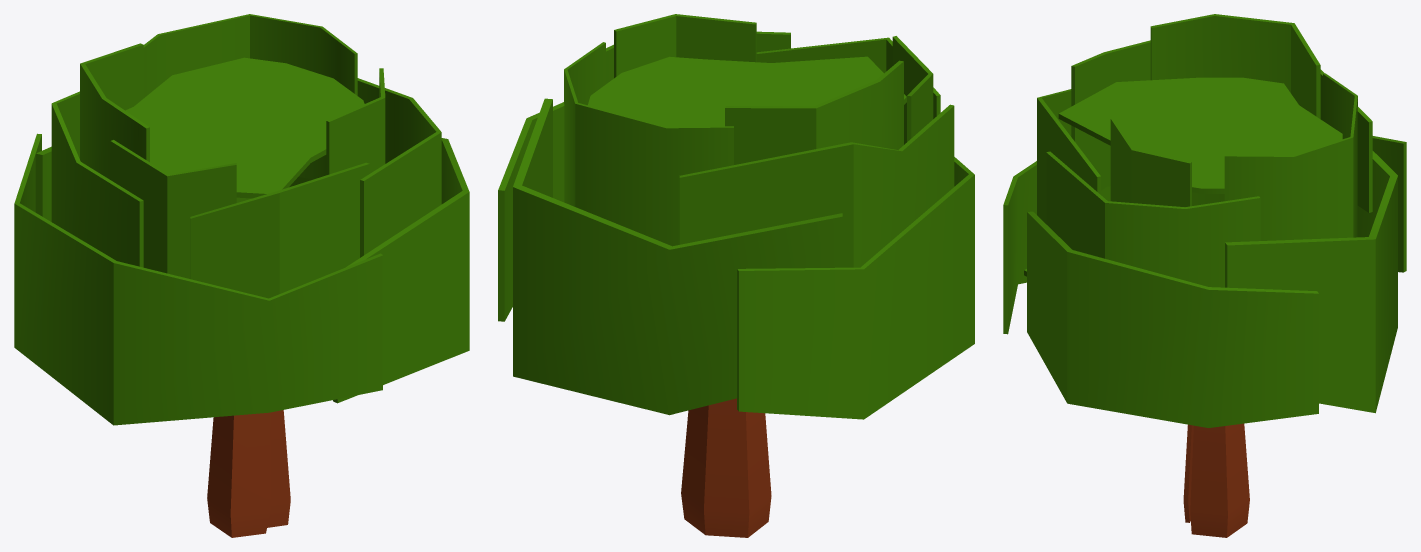
Rendered from MyTree.fbx.
The picture shows the model from 3 angles, left to right: view 1: azimuth 30°, elevation 25°; view 2: azimuth 150°, elevation 25°; view 3: azimuth 270°, elevation 25°; orthographic projection. The views are drawn at different scales.
Visible parts, largest first — view 1: Line003; view 2: Line003; view 3: Line003.
Boxes of the visible parts, x1=… form: Line003: x1=14, y1=14, x2=469, y2=537; Line003: x1=498, y1=14, x2=974, y2=537; Line003: x1=1003, y1=14, x2=1406, y2=537.
Bounding box in the file's own units: 69.62 × 79.94 × 66.53.
